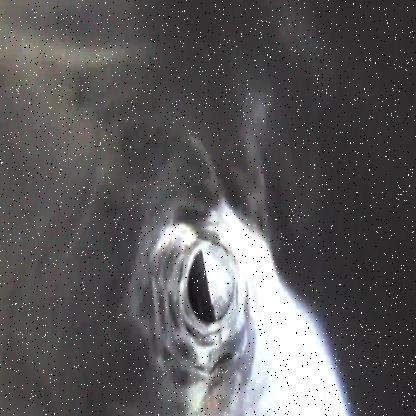Crack: (134, 213, 274, 386)
